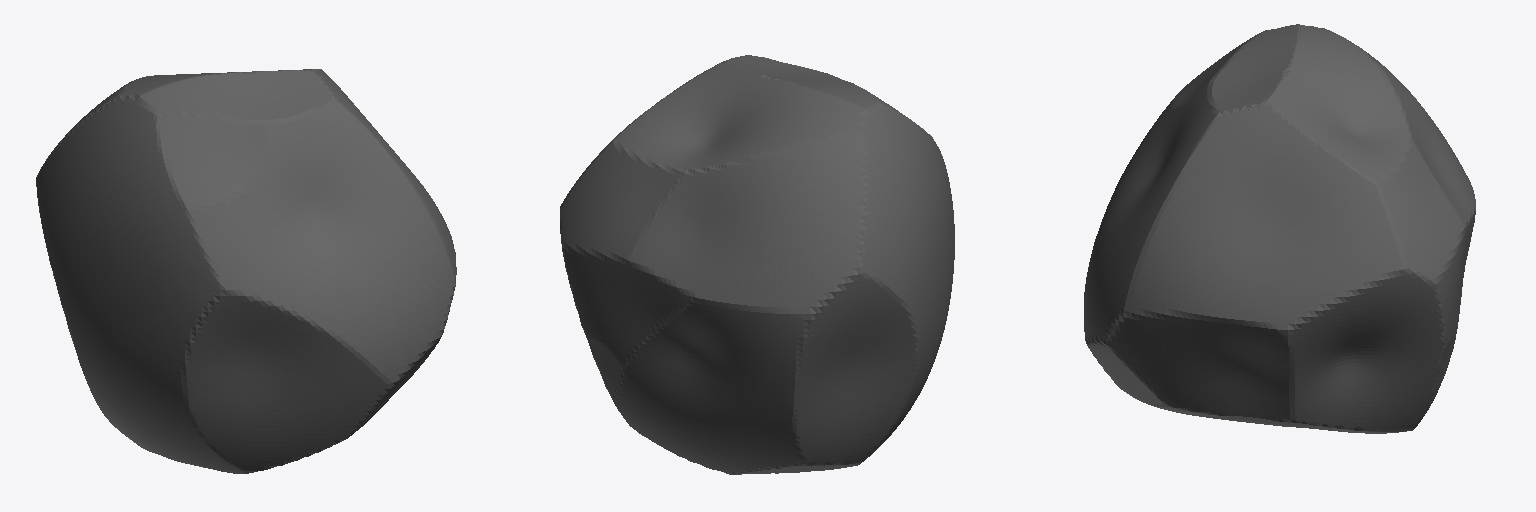
Rendered from Stein1.obj.
3 views of the same model, side by side, from view 1: azimuth 30°, elevation 25°; view 2: azimuth 150°, elevation 25°; view 3: azimuth 270°, elevation 25° (orthographic).
Parts seen in each view (by area): view 1: Kugel; view 2: Kugel; view 3: Kugel.
Boxes of the visible parts, box(x1,y1,x2,y2) form: Kugel: box(36, 69, 456, 473); Kugel: box(560, 55, 954, 474); Kugel: box(1084, 24, 1475, 433).
Bounding box in the file's own units: 48.73 × 49.95 × 47.89.